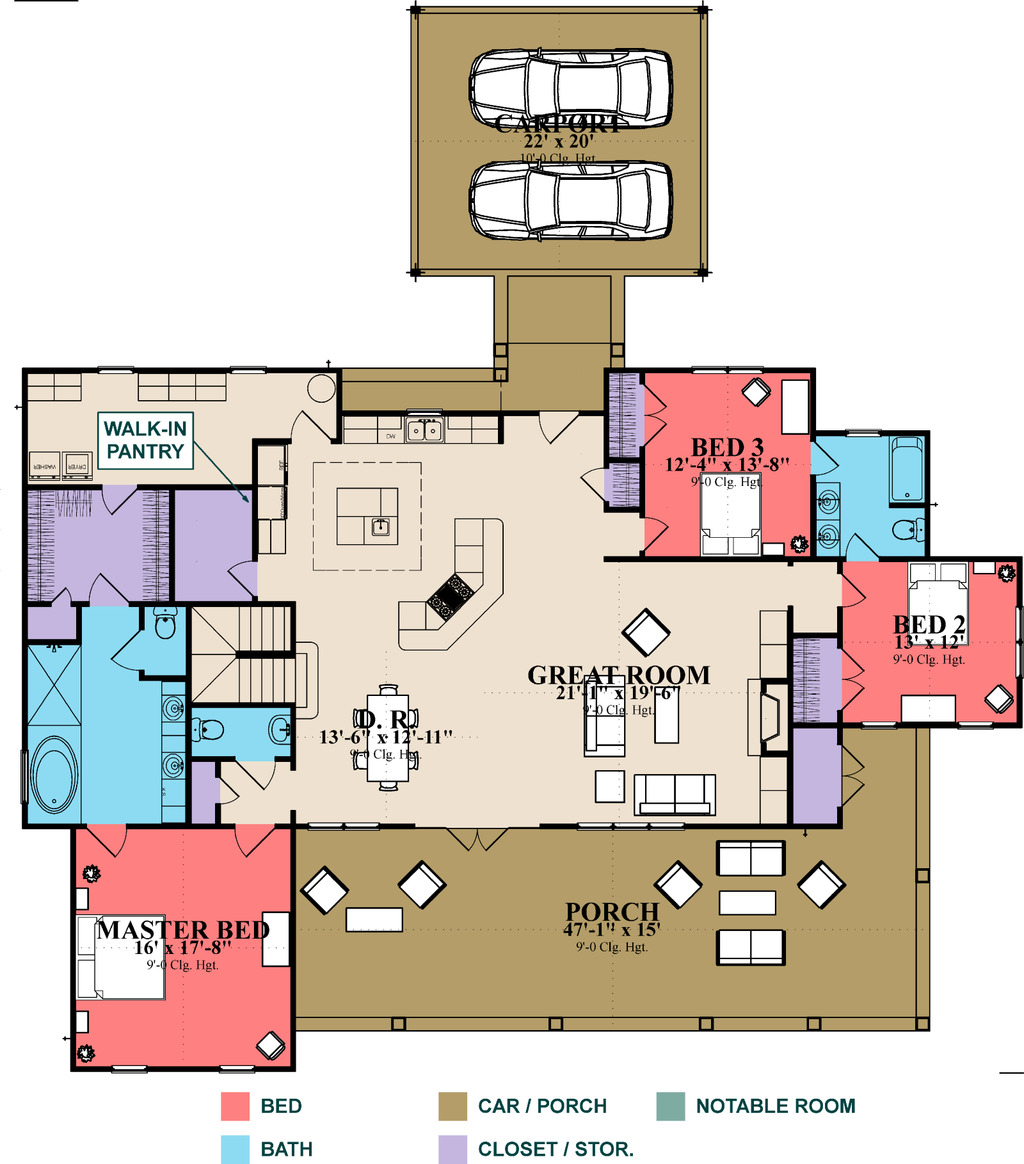bed: (76, 908, 171, 1001), (900, 554, 976, 650), (693, 468, 760, 556)
dining_table: (331, 672, 436, 797)
door: (629, 374, 678, 450), (829, 736, 871, 808), (436, 817, 520, 850), (229, 812, 284, 857), (82, 565, 142, 605), (835, 639, 867, 712), (109, 630, 156, 677), (227, 548, 264, 607), (804, 437, 849, 485), (284, 407, 336, 448), (85, 823, 138, 861), (533, 407, 584, 445), (89, 481, 142, 516), (582, 459, 618, 510), (836, 568, 871, 614), (840, 525, 878, 561), (631, 516, 665, 556)
kitchen_bar: (387, 510, 515, 657)
large_sink: (185, 714, 235, 756), (144, 596, 182, 645), (889, 512, 929, 545)
large_sofa: (571, 663, 644, 763), (622, 761, 735, 816), (711, 927, 795, 972), (720, 830, 787, 877)
sink: (351, 507, 405, 552)
small_sink: (155, 685, 198, 819), (816, 474, 851, 568), (260, 708, 300, 757)
small_sofa: (644, 841, 709, 916), (785, 852, 858, 916), (295, 859, 351, 912), (402, 861, 455, 912)
stairs: (189, 607, 338, 710)
twin_sink: (380, 401, 456, 450)
